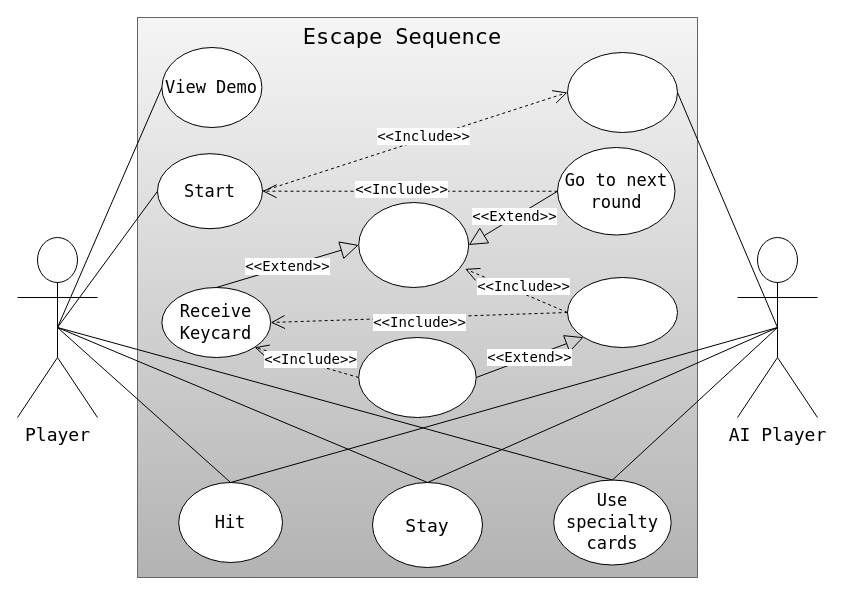
This 844x595 diagram has some shape labels left out. The shapes that lost their labels are listed below. From the top down, each one's box as (x1, y1, x2, y2) in pixels, then its label:
(566, 52, 678, 132): Deal Cards
(358, 202, 469, 288): Calculate Result
(566, 276, 678, 348): End Game
(358, 336, 476, 418): Escape Ship
